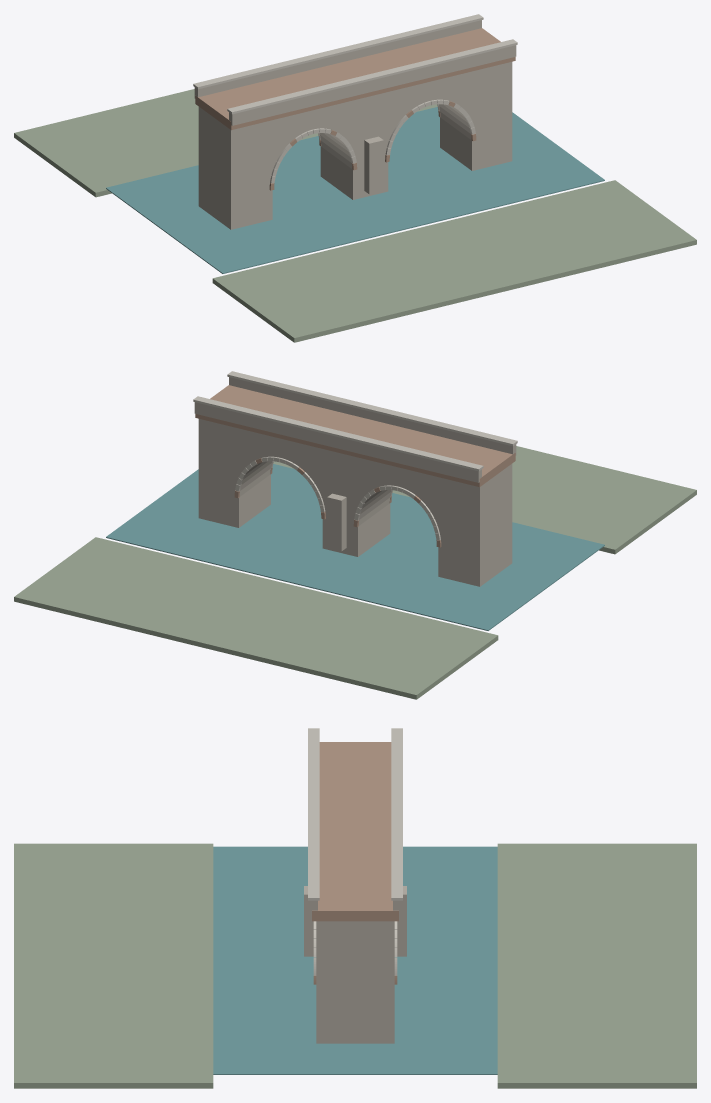
Rendered from lalezar_2_arches.glb.
3 views of the same model, one above another, from view 1: azimuth 30°, elevation 25°; view 2: azimuth 150°, elevation 25°; view 3: azimuth 270°, elevation 25° (orthographic). The views are drawn at different scales.
Parts seen in each view (by area): view 1: lalezar_2_arches_grass, lalezar_2_arches_water, lalezar_2_arches_stone, lalezar_2_arches_brick, lalezar_2_arches_light; view 2: lalezar_2_arches_grass, lalezar_2_arches_water, lalezar_2_arches_stone, lalezar_2_arches_brick, lalezar_2_arches_light; view 3: lalezar_2_arches_grass, lalezar_2_arches_water, lalezar_2_arches_brick, lalezar_2_arches_stone, lalezar_2_arches_light.
Part boxes in pixels (left/top/right/bottom): lalezar_2_arches_grass: left=14, top=89, right=696, bottom=342; lalezar_2_arches_water: left=106, top=107, right=604, bottom=273; lalezar_2_arches_stone: left=194, top=20, right=516, bottom=229; lalezar_2_arches_brick: left=195, top=28, right=515, bottom=190; lalezar_2_arches_light: left=193, top=14, right=517, bottom=183; lalezar_2_arches_grass: left=14, top=446, right=696, bottom=699; lalezar_2_arches_water: left=106, top=464, right=604, bottom=630; lalezar_2_arches_stone: left=194, top=377, right=516, bottom=586; lalezar_2_arches_brick: left=195, top=385, right=515, bottom=547; lalezar_2_arches_light: left=193, top=371, right=517, bottom=540; lalezar_2_arches_grass: left=14, top=843, right=696, bottom=1088; lalezar_2_arches_water: left=213, top=846, right=497, bottom=1074; lalezar_2_arches_brick: left=312, top=742, right=398, bottom=984; lalezar_2_arches_stone: left=304, top=886, right=406, bottom=1043; lalezar_2_arches_light: left=308, top=728, right=402, bottom=975.
Size of the model in its own units: 19.9 by 6.04 by 24.
